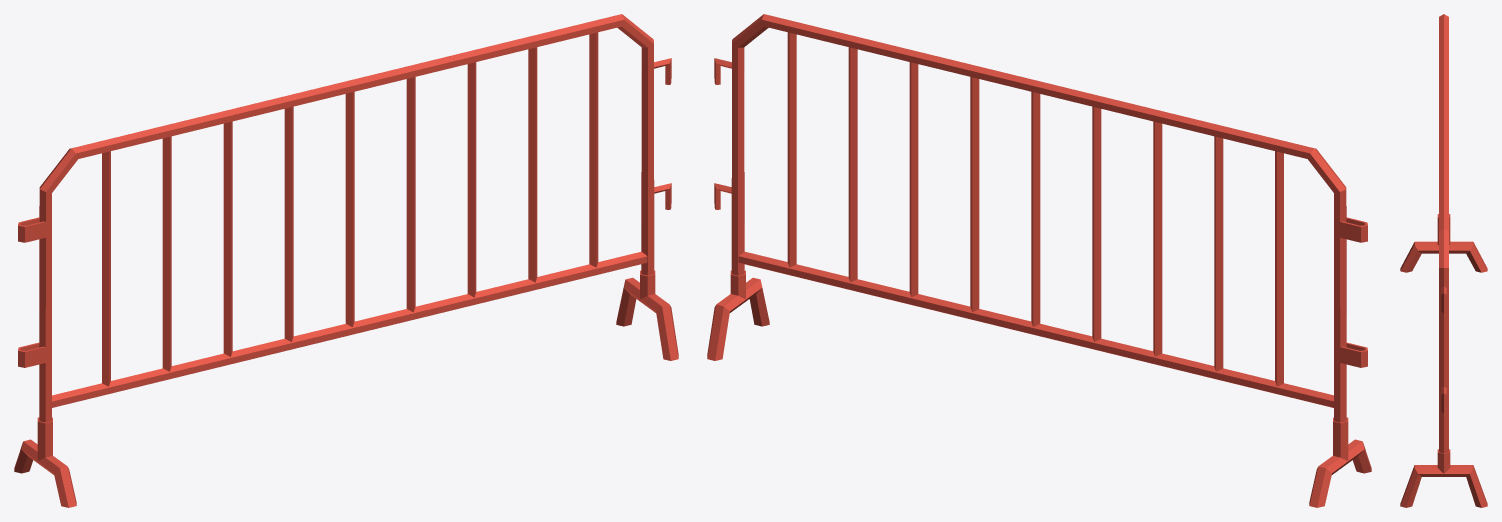
The model's file is SM_Barrier_Crowd_2m.fbx.
3 views of the same model, side by side, from view 1: azimuth 30°, elevation 25°; view 2: azimuth 150°, elevation 25°; view 3: azimuth 270°, elevation 25° (orthographic). The views are drawn at different scales.
Visible parts, largest first — view 1: SM_Barrier_Crowd_2m; view 2: SM_Barrier_Crowd_2m; view 3: SM_Barrier_Crowd_2m.
Part boxes in pixels (<box>): SM_Barrier_Crowd_2m: <box>14,14,678,507</box>; SM_Barrier_Crowd_2m: <box>707,14,1371,507</box>; SM_Barrier_Crowd_2m: <box>1400,14,1487,507</box>.
Size of the model in its own units: 29.29 by 203 by 98.7.
